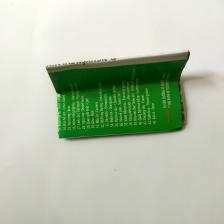Paper: (39, 59, 200, 145)
